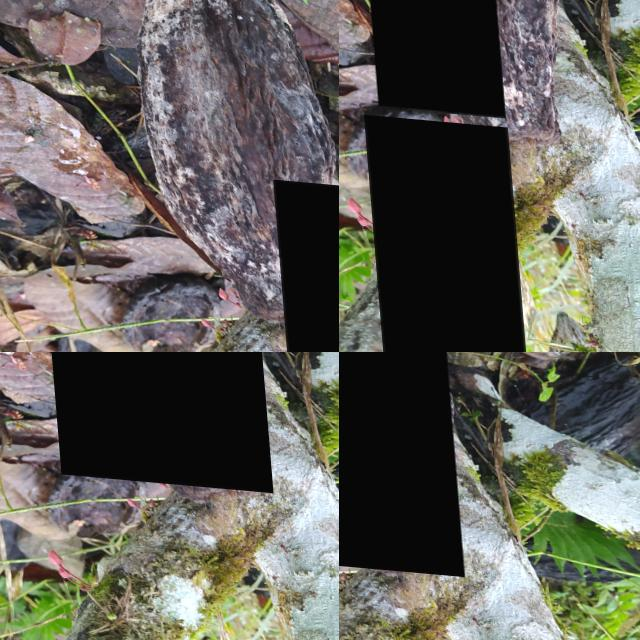Fitoftora: (37, 352, 267, 485), (339, 352, 457, 569), (353, 0, 499, 112), (268, 173, 339, 352)
Monilia: (357, 111, 517, 352)
